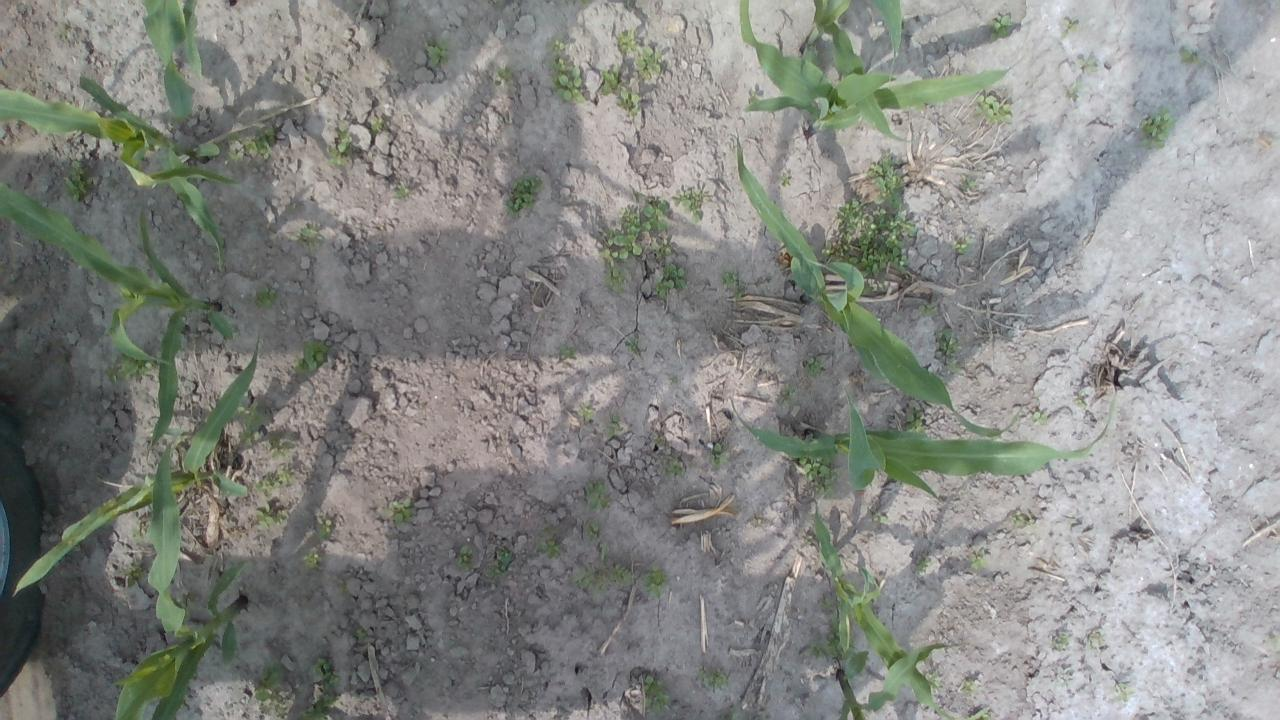Maize: (730, 138, 1024, 436), (0, 0, 246, 275), (11, 342, 260, 598), (0, 180, 235, 450), (730, 388, 1121, 508), (110, 438, 246, 720), (812, 506, 989, 720), (738, 0, 1016, 134), (802, 0, 902, 146), (837, 641, 951, 720), (150, 0, 206, 83)
Weeds: (830, 199, 919, 297), (599, 204, 643, 262), (302, 657, 339, 720), (865, 152, 902, 209), (800, 456, 841, 498), (550, 56, 584, 106), (225, 127, 272, 162), (251, 658, 285, 704), (974, 92, 1016, 129), (506, 175, 542, 217), (1140, 107, 1174, 151), (932, 326, 962, 374), (105, 355, 154, 383), (655, 262, 688, 300), (292, 340, 328, 374), (62, 159, 88, 202), (326, 125, 352, 167), (676, 187, 706, 223), (644, 674, 671, 712), (642, 198, 674, 230), (634, 45, 662, 80), (584, 478, 611, 513), (643, 568, 669, 601), (255, 503, 288, 529), (172, 592, 197, 624), (295, 222, 323, 250), (388, 497, 414, 526), (618, 86, 640, 120), (719, 270, 745, 298), (598, 63, 620, 96), (424, 38, 448, 67), (904, 406, 928, 435), (696, 668, 729, 689), (488, 550, 512, 578), (990, 13, 1014, 41), (606, 564, 634, 587), (120, 560, 142, 586), (661, 457, 687, 479), (534, 540, 562, 560), (606, 267, 624, 297), (616, 28, 638, 52), (922, 670, 944, 694), (710, 443, 729, 470), (778, 382, 798, 407), (951, 235, 975, 255), (316, 516, 334, 542), (456, 543, 472, 572), (573, 566, 593, 589), (252, 286, 272, 308), (798, 644, 825, 660), (583, 520, 601, 544), (1060, 19, 1081, 39), (804, 357, 824, 377), (265, 441, 288, 458), (606, 414, 621, 440), (252, 478, 272, 497), (650, 240, 671, 258), (494, 66, 512, 86), (1052, 632, 1072, 650), (1180, 48, 1200, 66), (1077, 58, 1099, 74), (824, 637, 839, 659), (1066, 80, 1084, 98), (558, 344, 578, 360), (916, 302, 938, 316), (272, 470, 290, 487), (1118, 682, 1134, 701), (971, 554, 988, 571), (392, 184, 410, 200), (304, 552, 322, 568), (1010, 510, 1026, 526), (625, 334, 637, 354), (369, 117, 383, 134), (960, 680, 977, 694), (549, 39, 567, 52), (820, 242, 834, 258), (962, 176, 978, 190), (914, 560, 930, 574), (1265, 636, 1280, 650), (578, 405, 593, 419), (1032, 411, 1048, 424), (816, 598, 833, 610), (54, 22, 66, 38), (1074, 392, 1086, 408), (872, 514, 888, 525), (236, 404, 250, 416), (354, 628, 368, 640), (778, 175, 790, 188), (1089, 629, 1100, 643), (747, 88, 757, 103), (654, 437, 664, 447), (250, 432, 260, 441), (670, 376, 677, 385), (982, 713, 990, 720)
